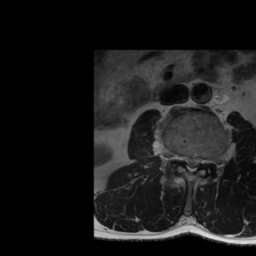CCS_normal: (189, 152, 194, 176)
LFS_stenosis: (202, 152, 209, 169)
LLS_stenosis: (194, 153, 201, 170)
RFS_normal: (175, 149, 183, 166)
RLS_stenosis: (183, 151, 189, 170)
